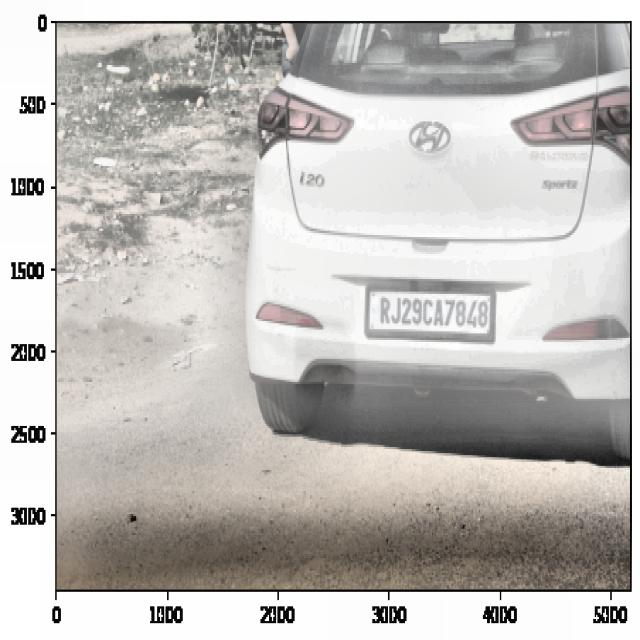license_plate: (371, 290, 494, 337)
